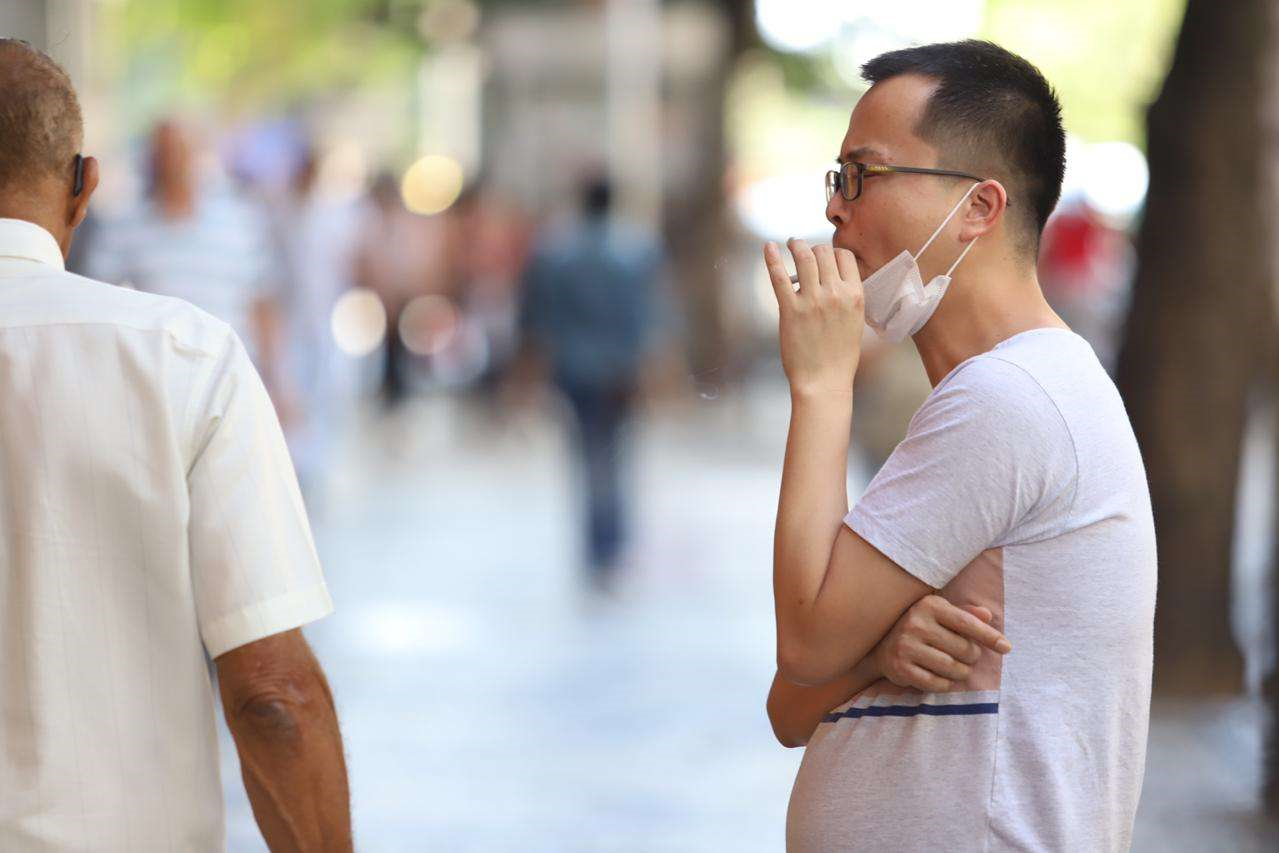mask_weared_incorrect: (823, 65, 1015, 352)
